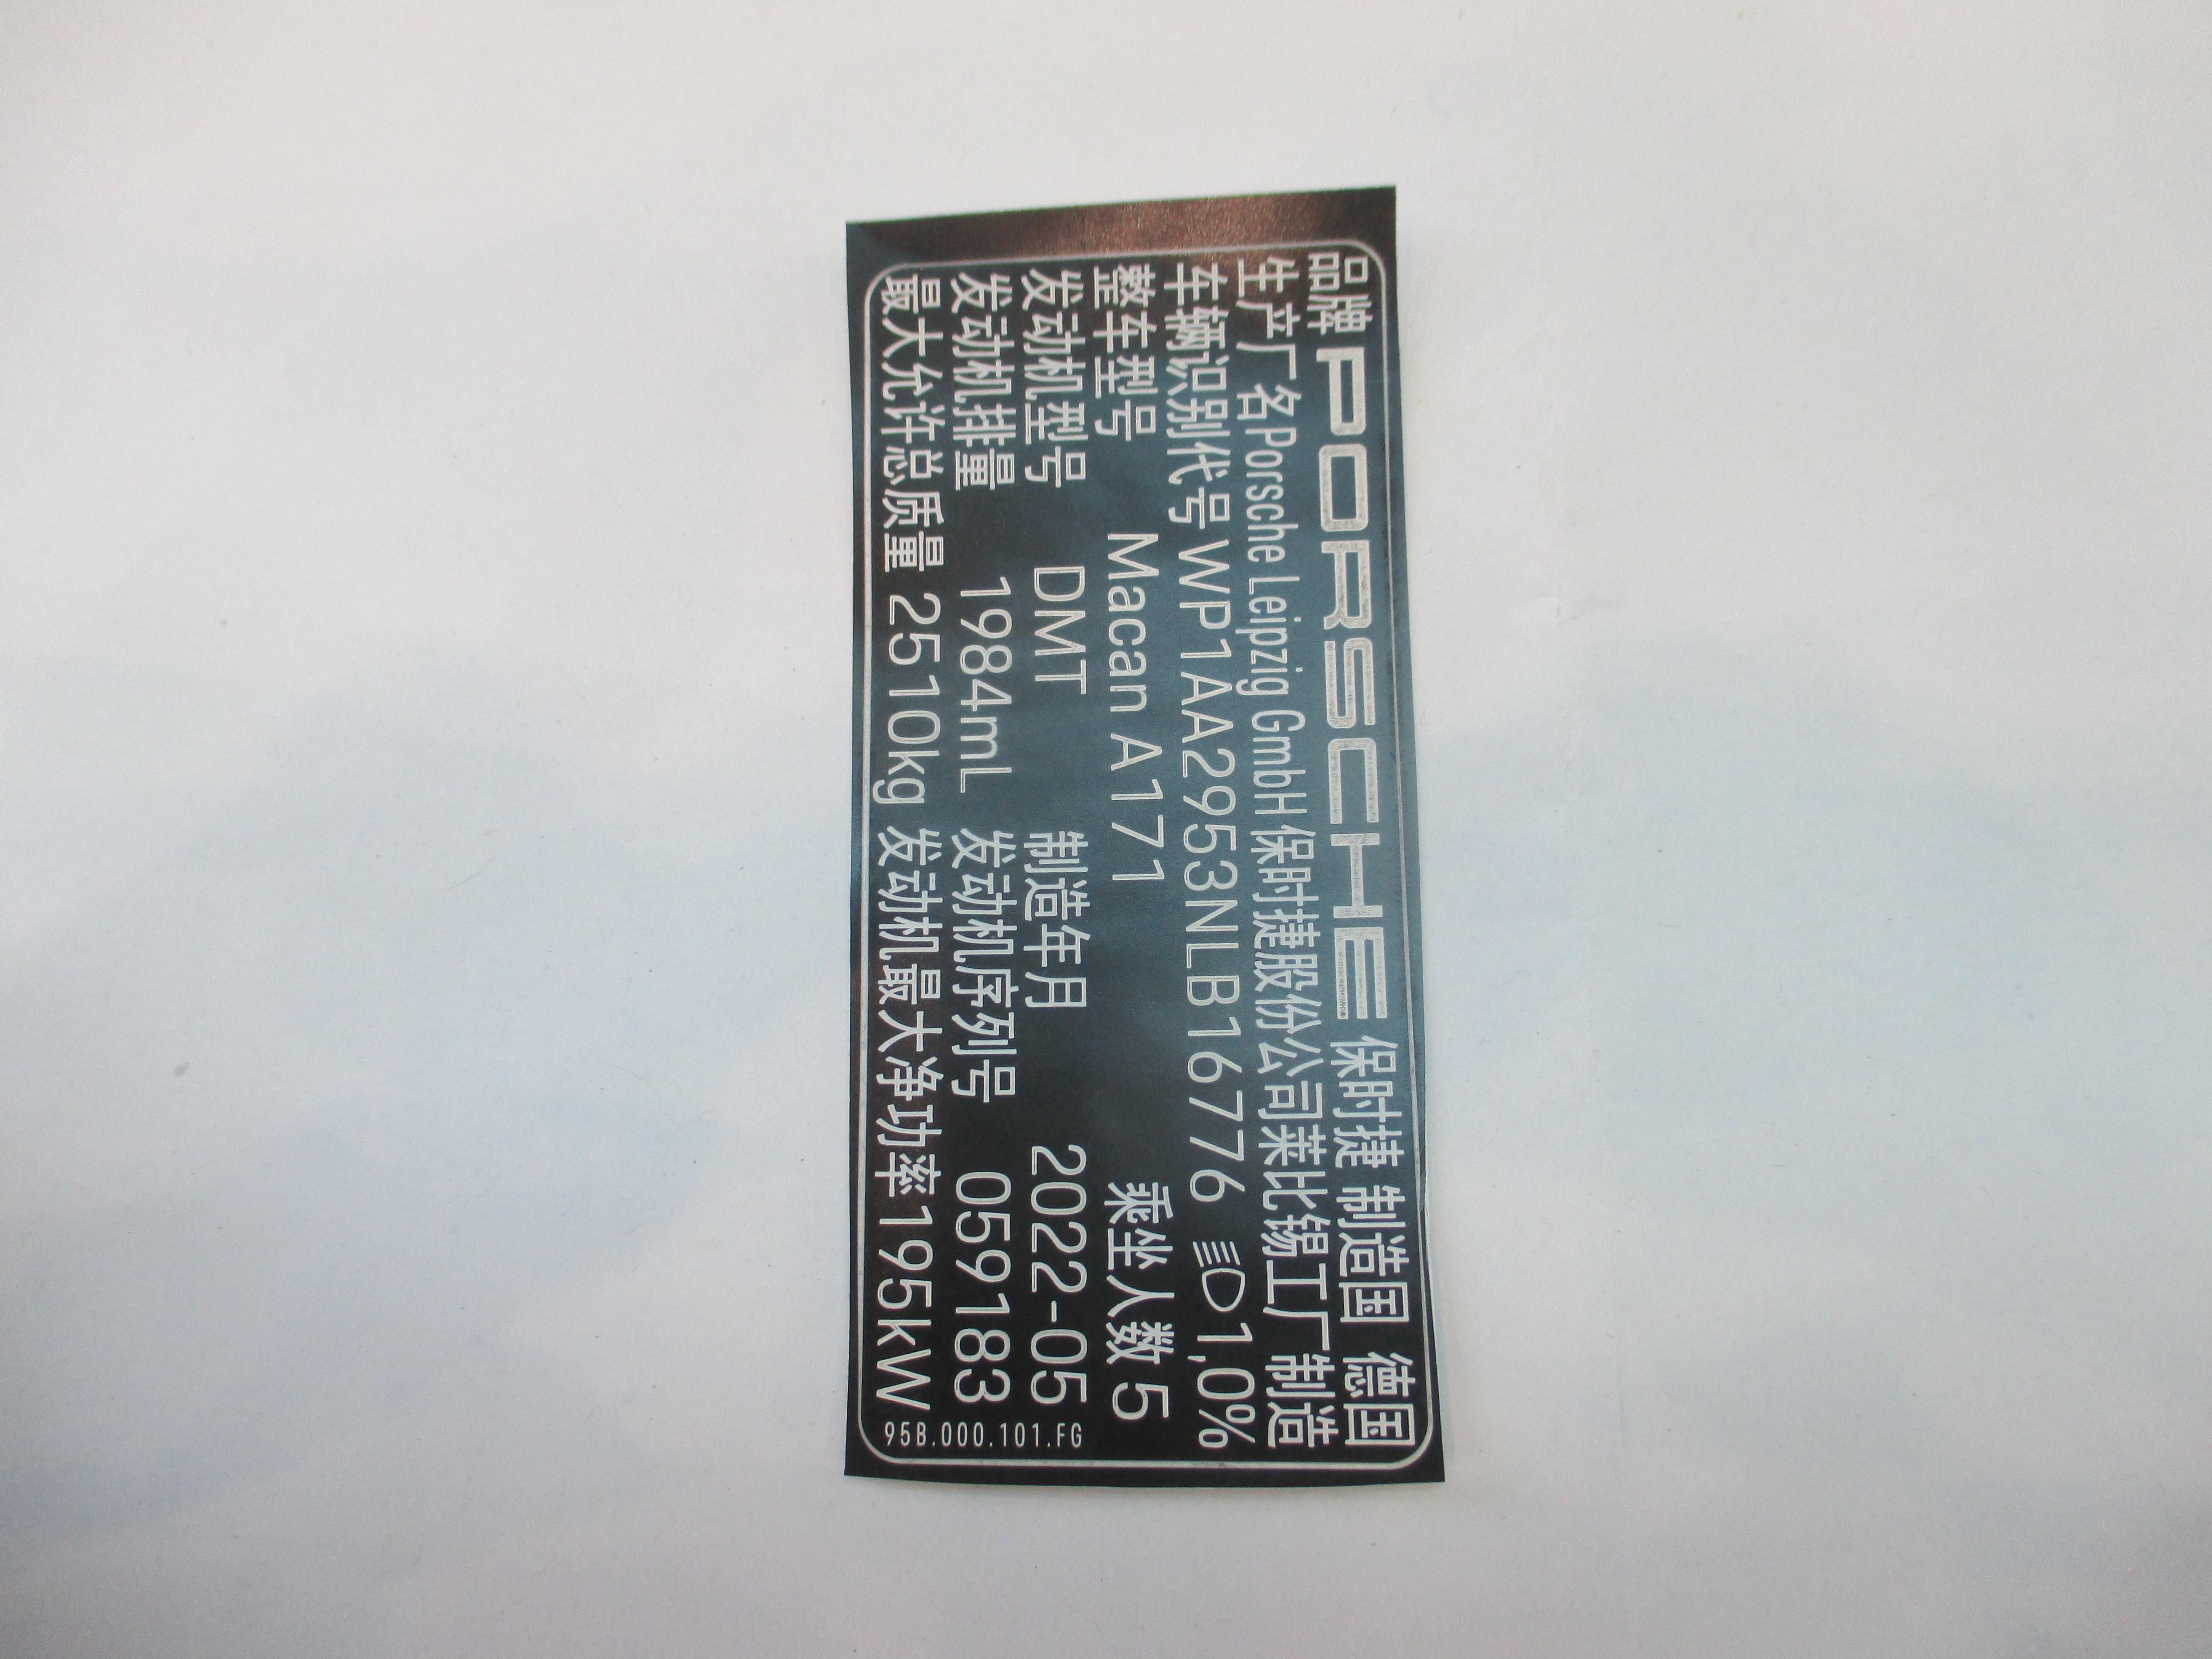Typlabel-China: (862, 247, 1426, 1460)
